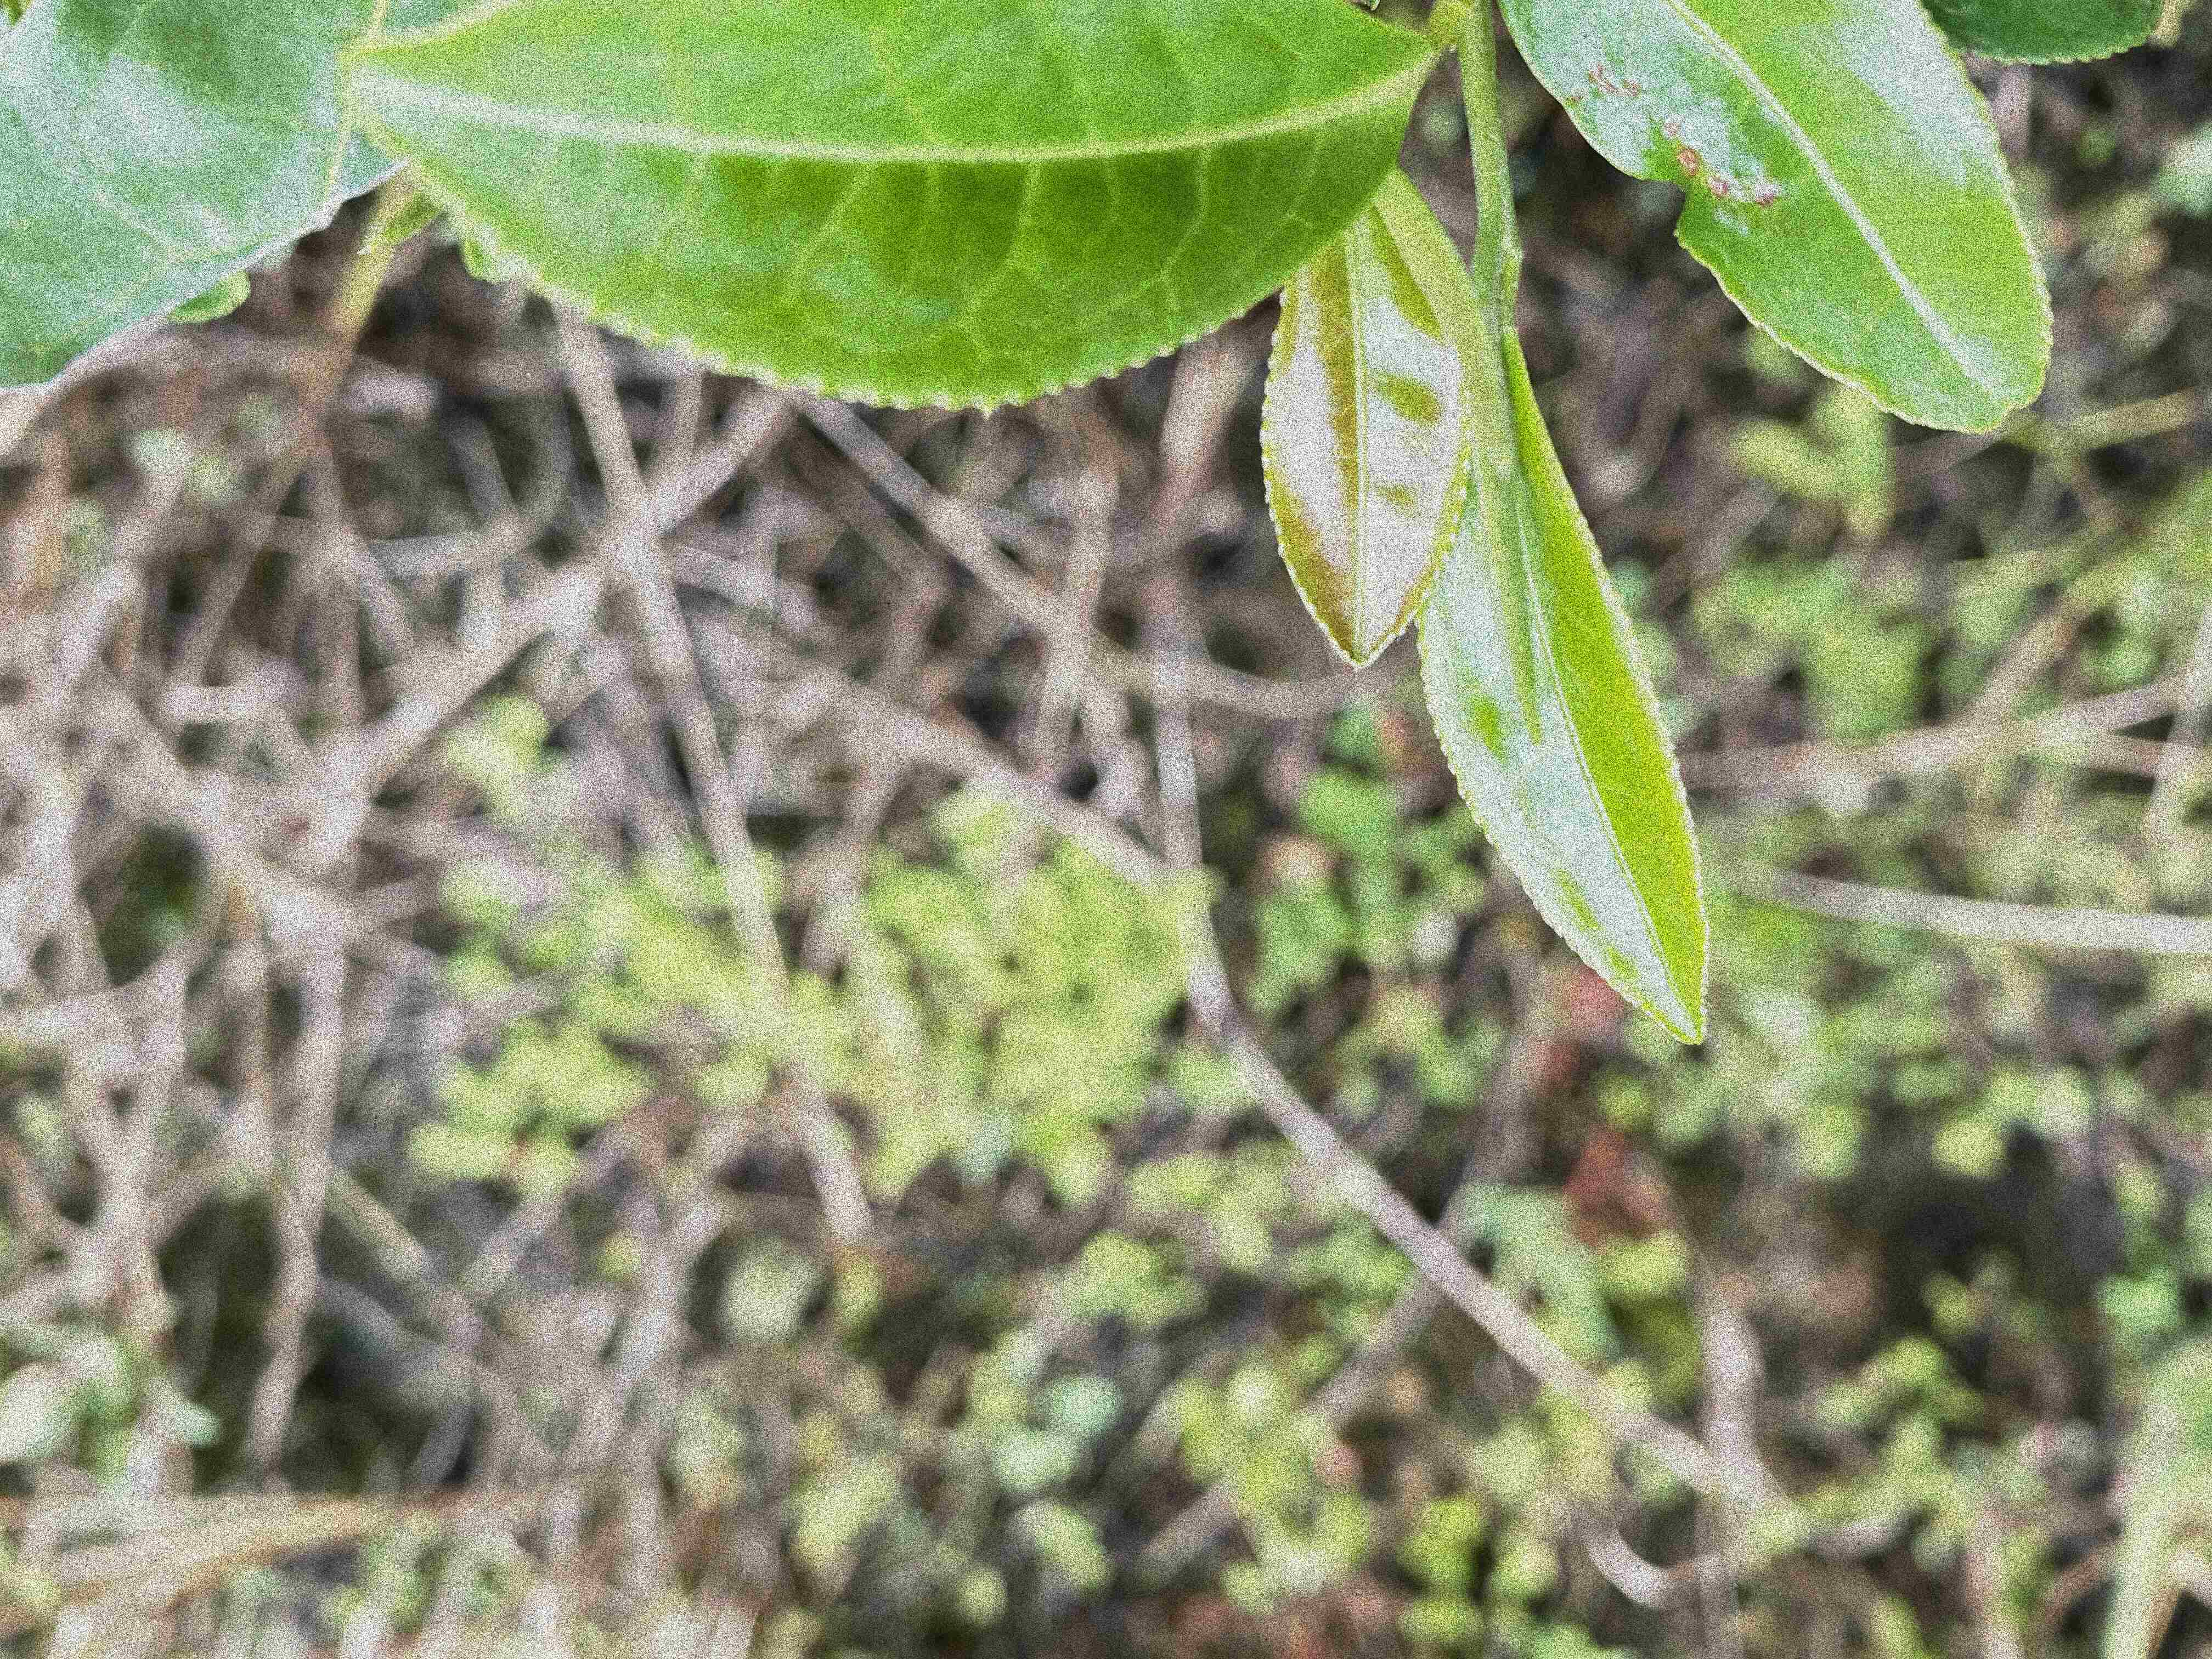healthy: (350, 2, 1430, 415), (1416, 329, 1710, 1049), (1252, 167, 1472, 669)
tanju_low: (1493, 0, 2054, 434)
